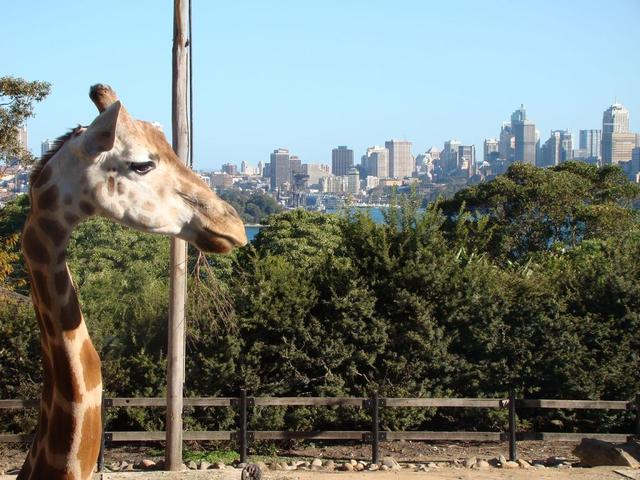giraffe: (11, 55, 258, 480)
